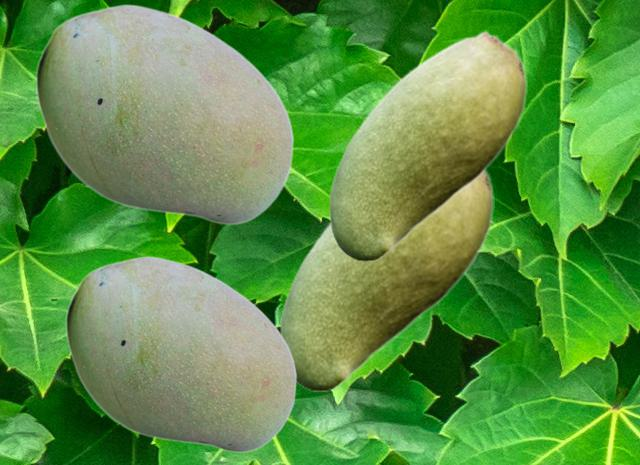green_mango: (35, 3, 293, 224), (279, 169, 493, 390), (328, 30, 526, 260), (65, 255, 296, 452)
